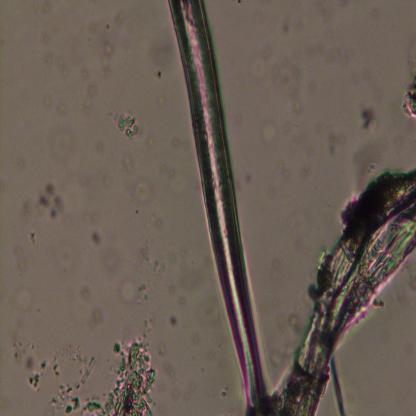Background material: (106, 338, 157, 416), (268, 50, 310, 112), (270, 106, 318, 153), (50, 382, 104, 415), (192, 282, 224, 334), (142, 32, 178, 77), (98, 13, 121, 80), (157, 346, 184, 403), (132, 239, 166, 281), (46, 128, 82, 166), (53, 229, 80, 279), (249, 36, 273, 84), (108, 110, 141, 141), (248, 121, 275, 155), (41, 184, 66, 220), (8, 284, 38, 314), (40, 43, 67, 74), (316, 126, 344, 154), (94, 157, 113, 193), (80, 84, 100, 118), (401, 75, 416, 118), (134, 177, 154, 206), (358, 104, 378, 132), (119, 278, 139, 306), (49, 347, 79, 365), (80, 356, 98, 384), (121, 146, 138, 174), (267, 256, 284, 284), (154, 162, 178, 181), (140, 316, 158, 341), (15, 241, 29, 273), (78, 275, 92, 304), (18, 199, 34, 223), (132, 282, 150, 302), (176, 285, 190, 309), (89, 230, 106, 249), (168, 311, 183, 332), (170, 132, 184, 154), (40, 0, 55, 18), (27, 374, 42, 392), (218, 384, 231, 403), (290, 320, 304, 336), (54, 99, 68, 115), (89, 311, 101, 329), (24, 354, 35, 372), (27, 231, 39, 243), (53, 364, 61, 380), (44, 92, 53, 106), (41, 360, 47, 370)
Cellulose filter fibre: (278, 169, 416, 414)
Natural material: (167, 0, 273, 415)
